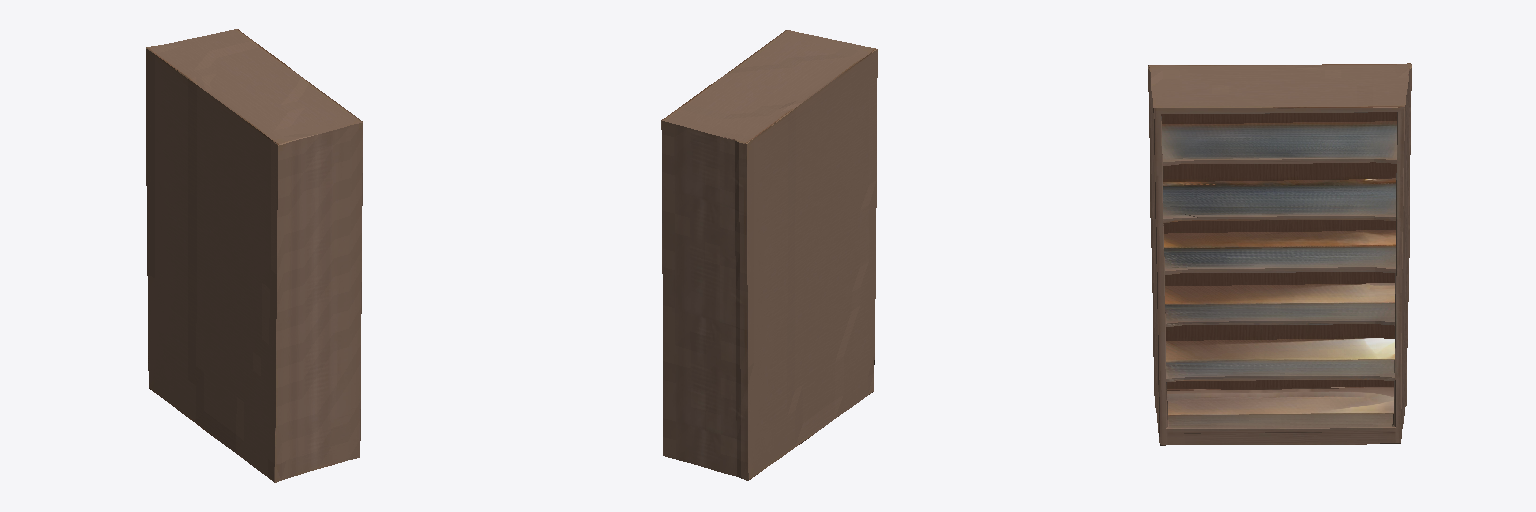
3 renders of one model, left to right at view 1: azimuth 30°, elevation 25°; view 2: azimuth 150°, elevation 25°; view 3: azimuth 270°, elevation 25°, orthographic.
Parts seen in each view (by area): view 1: tripo_node_4240bc03-294e-45bd-bf0f-53ea[number redacted]; view 2: tripo_node_4240bc03-294e-45bd-bf0f-53ea[number redacted]; view 3: tripo_node_4240bc03-294e-45bd-bf0f-53ea[number redacted].
Boxes of the visible parts, x1=… form: tripo_node_4240bc03-294e-45bd-bf0f-53ea[number redacted]: x1=146, y1=29, x2=362, y2=482; tripo_node_4240bc03-294e-45bd-bf0f-53ea[number redacted]: x1=661, y1=30, x2=877, y2=480; tripo_node_4240bc03-294e-45bd-bf0f-53ea[number redacted]: x1=1148, y1=63, x2=1411, y2=445.
Bounding box in the file's own units: 0.2557 × 0.9411 × 0.6564.
1 materials, 1 textured.